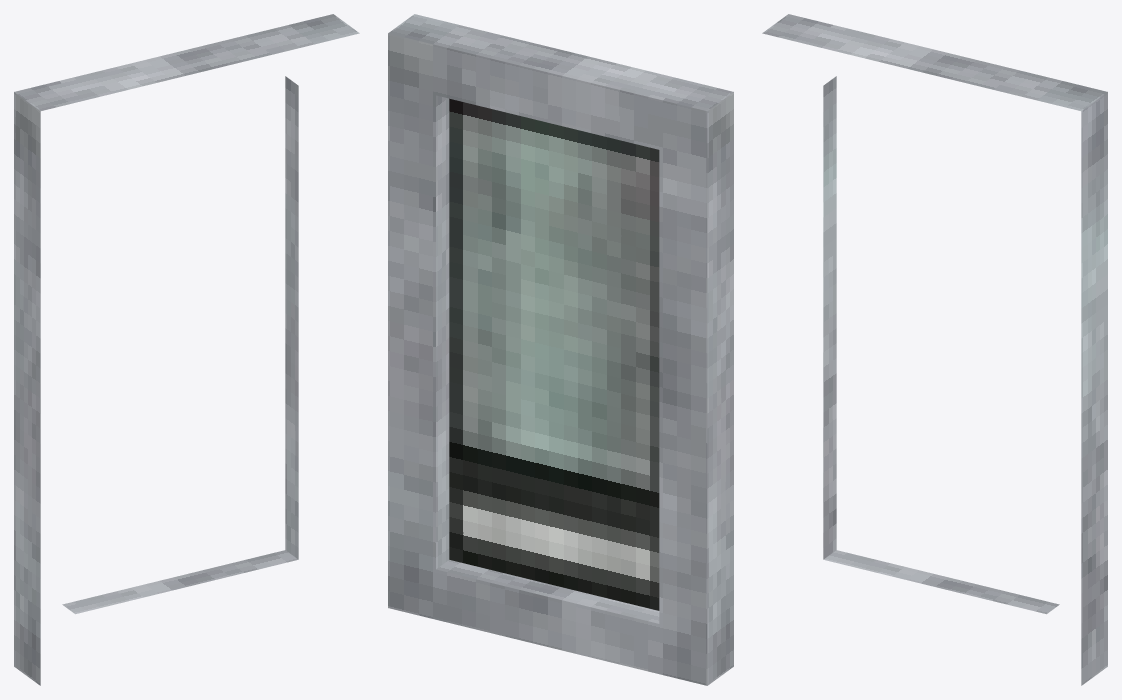
The model's file is window-small-type-b.glb.
The picture shows the model from 3 angles, left to right: view 1: azimuth 30°, elevation 25°; view 2: azimuth 150°, elevation 25°; view 3: azimuth 330°, elevation 25°; orthographic projection.
Visible parts, largest first — view 1: window-small-type-b; view 2: window-small-type-b; view 3: window-small-type-b.
Boxes of the visible parts, x1=… form: window-small-type-b: x1=14, y1=14, x2=359, y2=685; window-small-type-b: x1=388, y1=14, x2=733, y2=685; window-small-type-b: x1=762, y1=14, x2=1107, y2=685.
Size of the model in its own units: 0.3478 by 0.5978 by 0.05.
2 materials, 2 textured.
